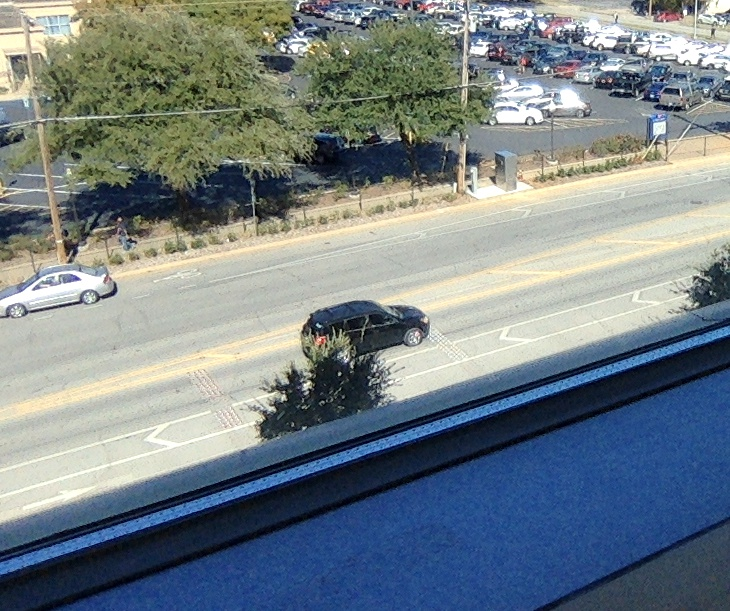car: (300, 300, 430, 360)
